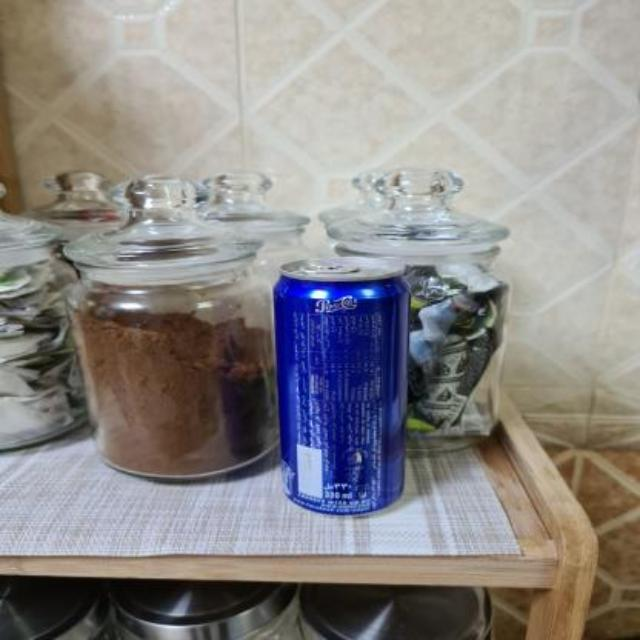metal: (274, 260, 408, 512)
